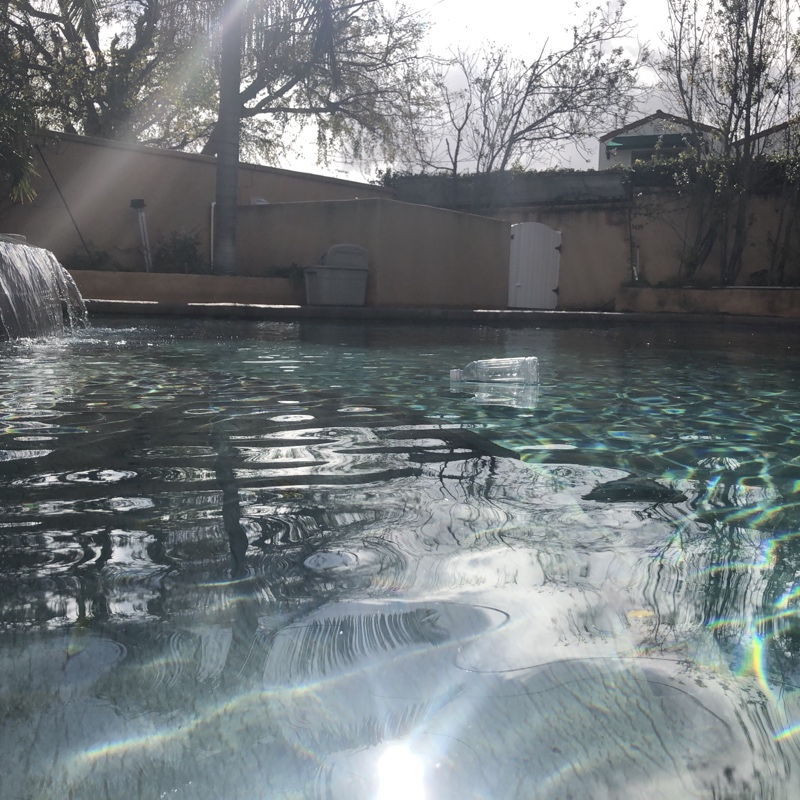Plastic Bottle: (447, 351, 544, 393)
